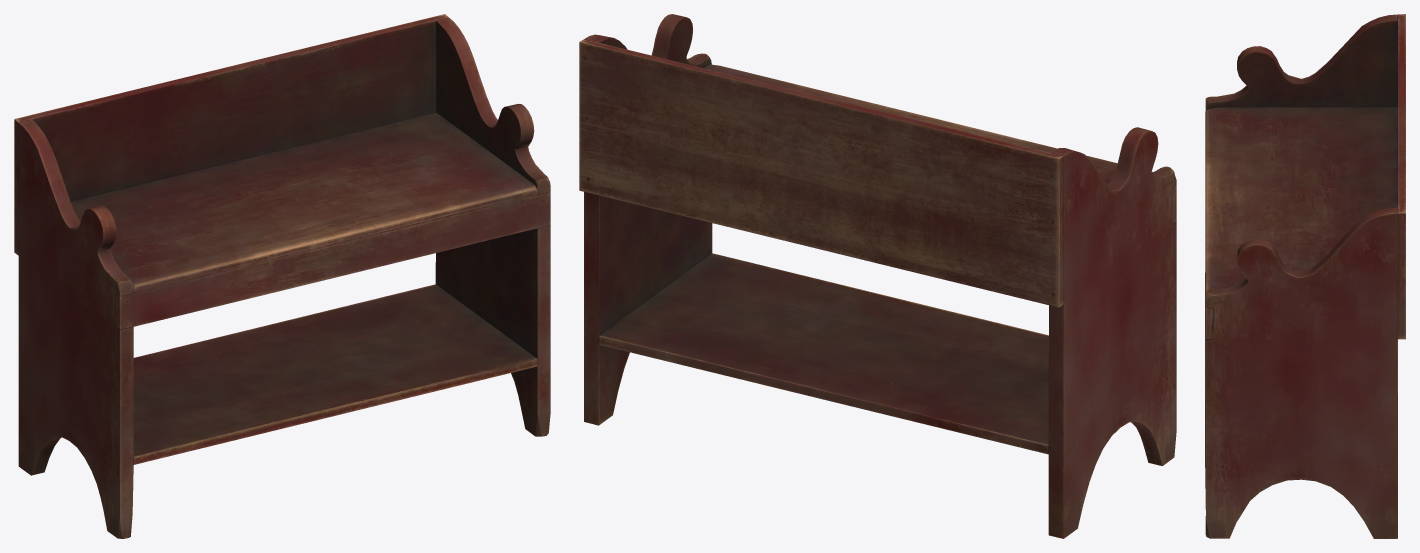
Rendered from assets__ph__painted_wooden_bench.glb.
The picture shows the model from 3 angles, left to right: view 1: azimuth 30°, elevation 25°; view 2: azimuth 150°, elevation 25°; view 3: azimuth 270°, elevation 25°; orthographic projection. The views are drawn at different scales.
Visible parts, largest first — view 1: painted_wooden_bench; view 2: painted_wooden_bench; view 3: painted_wooden_bench.
Part boxes in pixels (x1,y1,x2,y2): painted_wooden_bench: [14, 14, 550, 538]; painted_wooden_bench: [579, 14, 1176, 538]; painted_wooden_bench: [1205, 14, 1405, 538].
Size of the model in its own units: 1.16 by 0.8893 by 0.4965.
Materials: 1 (1 with a texture image).
